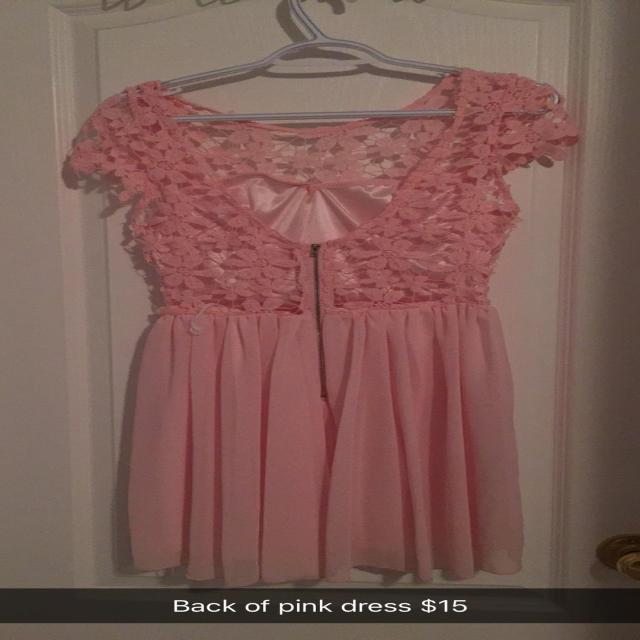Dress: (54, 62, 598, 579)
